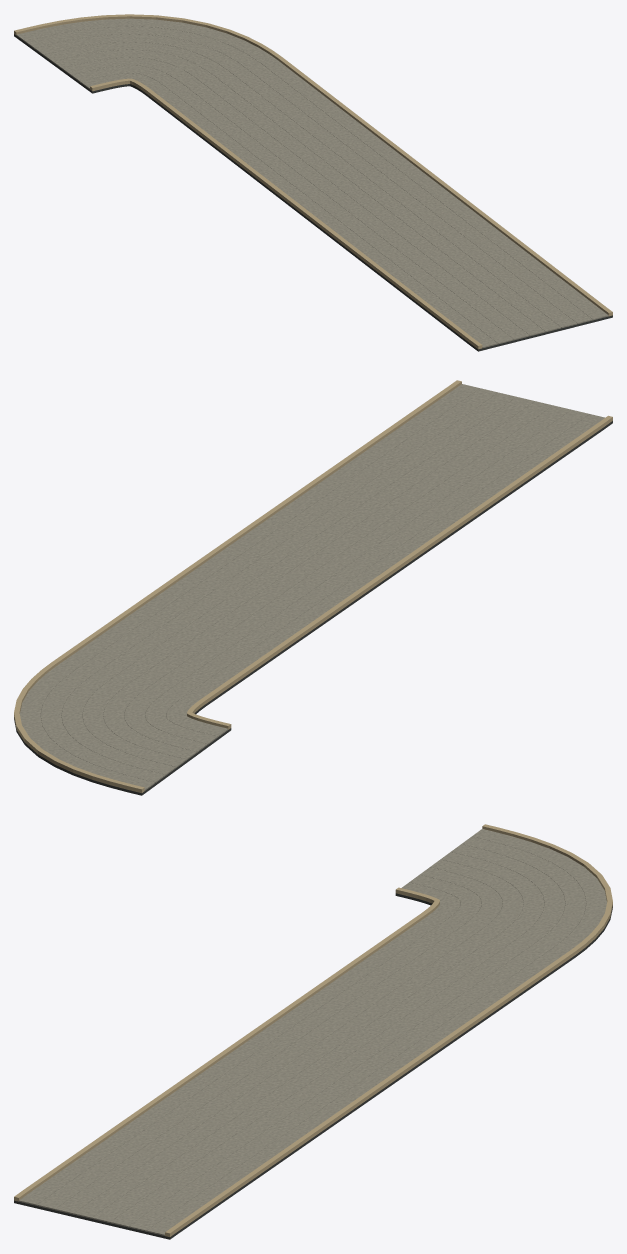
The model's file is track_main_11.fbx.
3 renders of one model, top to bottom at view 1: azimuth 30°, elevation 25°; view 2: azimuth 150°, elevation 25°; view 3: azimuth 330°, elevation 25°, orthographic. The views are drawn at different scales.
Visible parts, largest first — view 1: roman_concrete.001, travertine.001, basalt.001; view 2: roman_concrete.001, travertine.001, basalt.001; view 3: roman_concrete.001, travertine.001, basalt.001.
Part boxes in pixels (bbox=[...]): roman_concrete.001: bbox=[16, 18, 608, 348]; travertine.001: bbox=[14, 14, 612, 349]; basalt.001: bbox=[14, 34, 612, 351]; roman_concrete.001: bbox=[20, 384, 604, 790]; travertine.001: bbox=[14, 380, 612, 793]; basalt.001: bbox=[14, 421, 612, 795]; roman_concrete.001: bbox=[19, 829, 606, 1235]; travertine.001: bbox=[14, 824, 612, 1236]; basalt.001: bbox=[14, 893, 612, 1239].
Size of the model in its own units: 131186 by 573013 by 4000.
